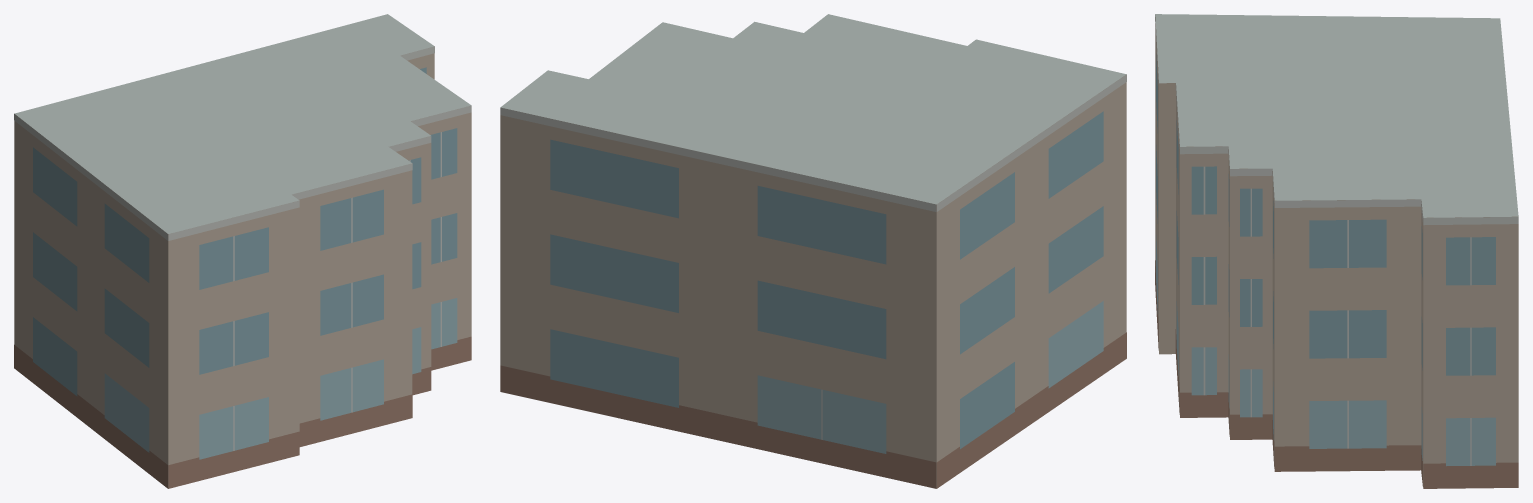
Rendered from survey-upis-32498559.glb.
The picture shows the model from 3 angles, left to right: view 1: azimuth 30°, elevation 25°; view 2: azimuth 150°, elevation 25°; view 3: azimuth 270°, elevation 25°; orthographic projection. The views are drawn at different scales.
Visible parts, largest first — view 1: survey-upis-32498559.tmp; view 2: survey-upis-32498559.tmp; view 3: survey-upis-32498559.tmp.
Boxes of the visible parts, x1,y1,x2,y2 form: survey-upis-32498559.tmp: [14, 14, 471, 488]; survey-upis-32498559.tmp: [500, 14, 1126, 488]; survey-upis-32498559.tmp: [1155, 14, 1518, 488].
Size of the model in its own units: 14.52 by 9 by 10.95.
